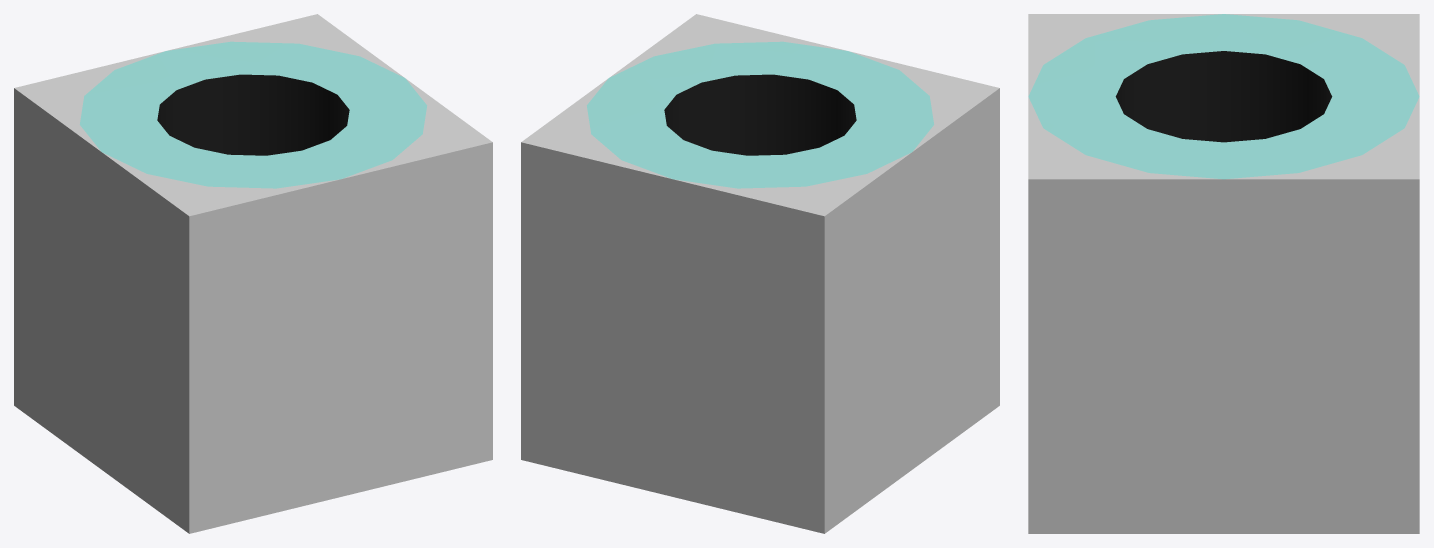
The model's file is Proto_Goal.fbx.
3 renders of one model, left to right at view 1: azimuth 30°, elevation 25°; view 2: azimuth 150°, elevation 25°; view 3: azimuth 270°, elevation 25°, orthographic. The views are drawn at different scales.
Visible parts, largest first — view 1: Proto_Goal; view 2: Proto_Goal; view 3: Proto_Goal.
Boxes of the visible parts, x1,y1,x2,y2 form: Proto_Goal: (14, 14, 492, 533); Proto_Goal: (521, 14, 999, 533); Proto_Goal: (1028, 14, 1419, 533).
Bounding box in the file's own units: 200 × 200 × 200.
